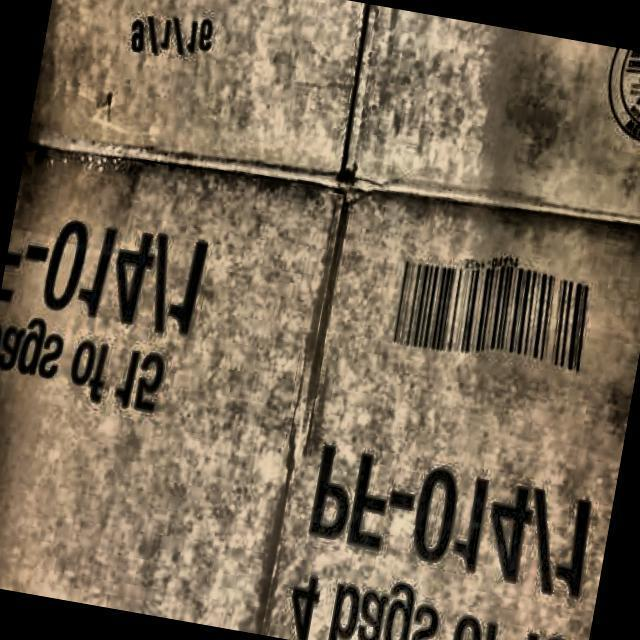cardboard: (0, 0, 640, 640), (260, 171, 640, 640)
